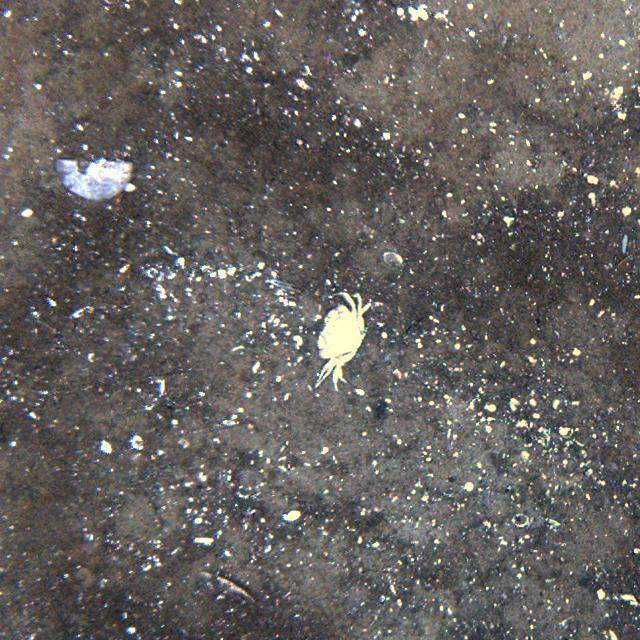crab: (312, 288, 376, 386)
